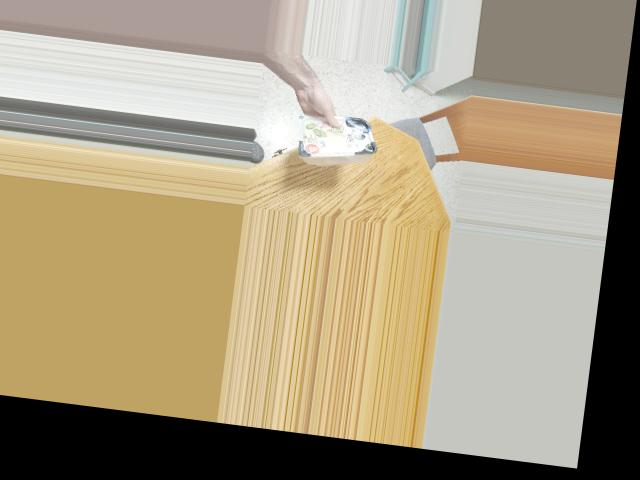cheese: (297, 102, 377, 167)
